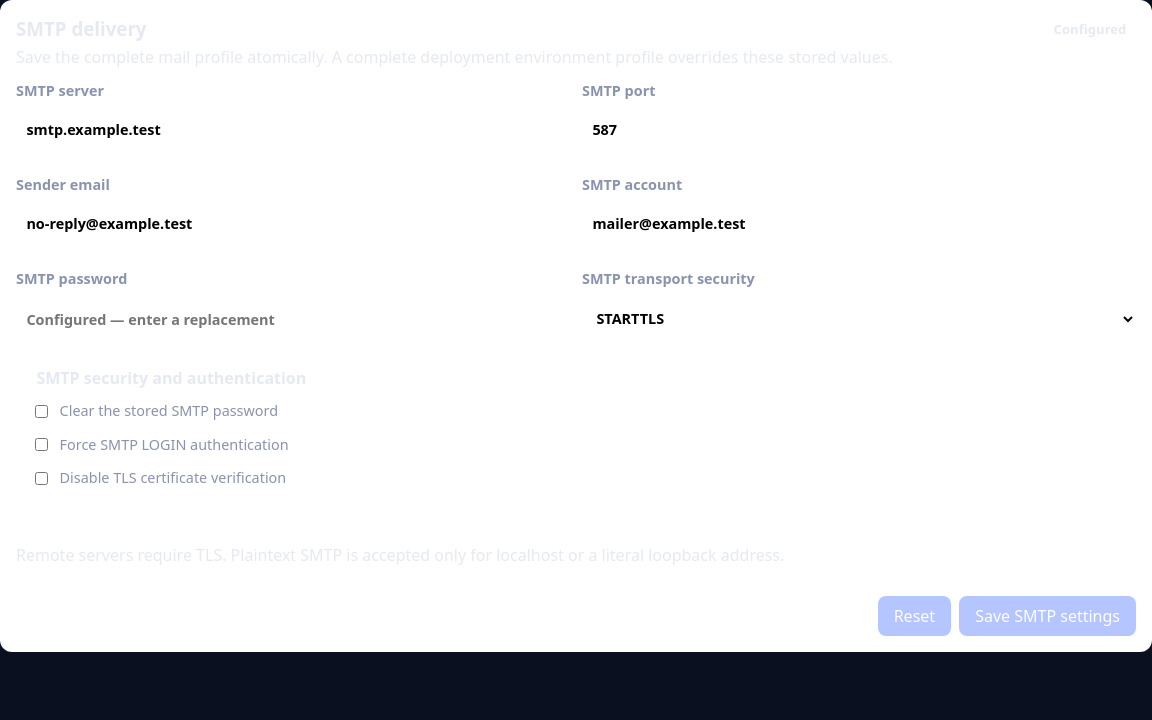
Test: SMTPSettingsPanel › blocks remote plaintext and incomplete credential changes locally
The image size is (1152, 720).
Select "Plaintext (loopback only)" in the dropdown labelled "SMTP transport security" at (859, 319), box x1=582 y1=299 x2=1136 y2=338
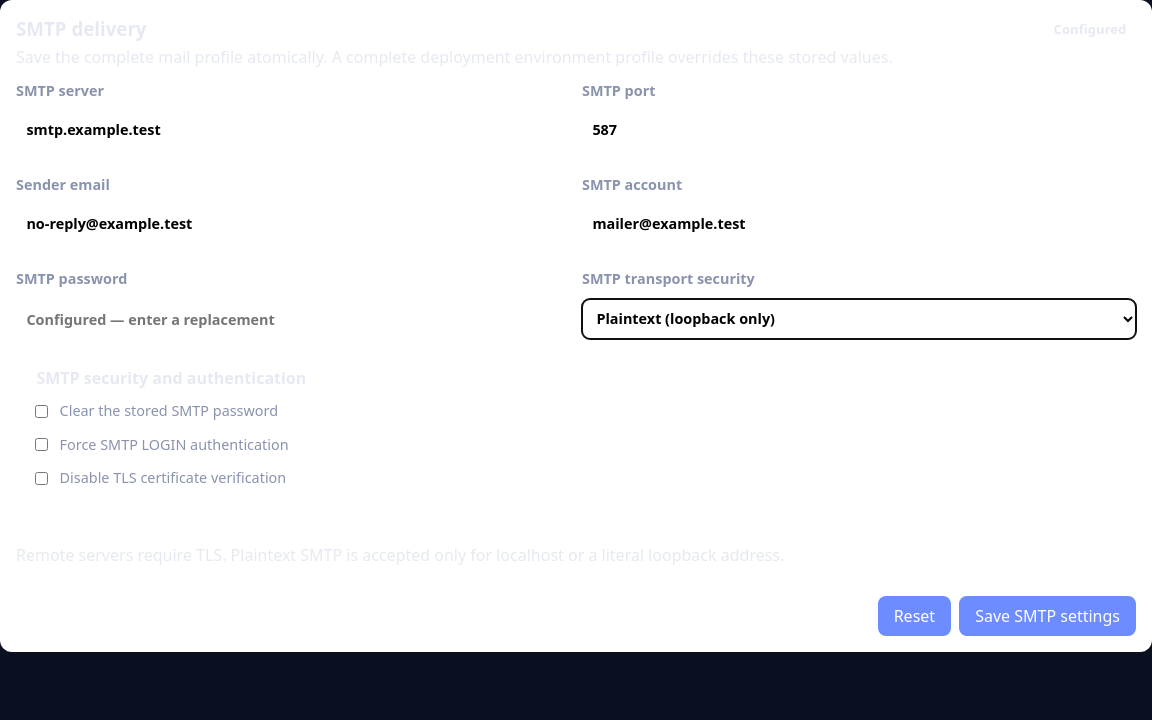
Replace the text in the field labelled "SMTP port" with "25" at (859, 130), box x1=582 y1=111 x2=1136 y2=148
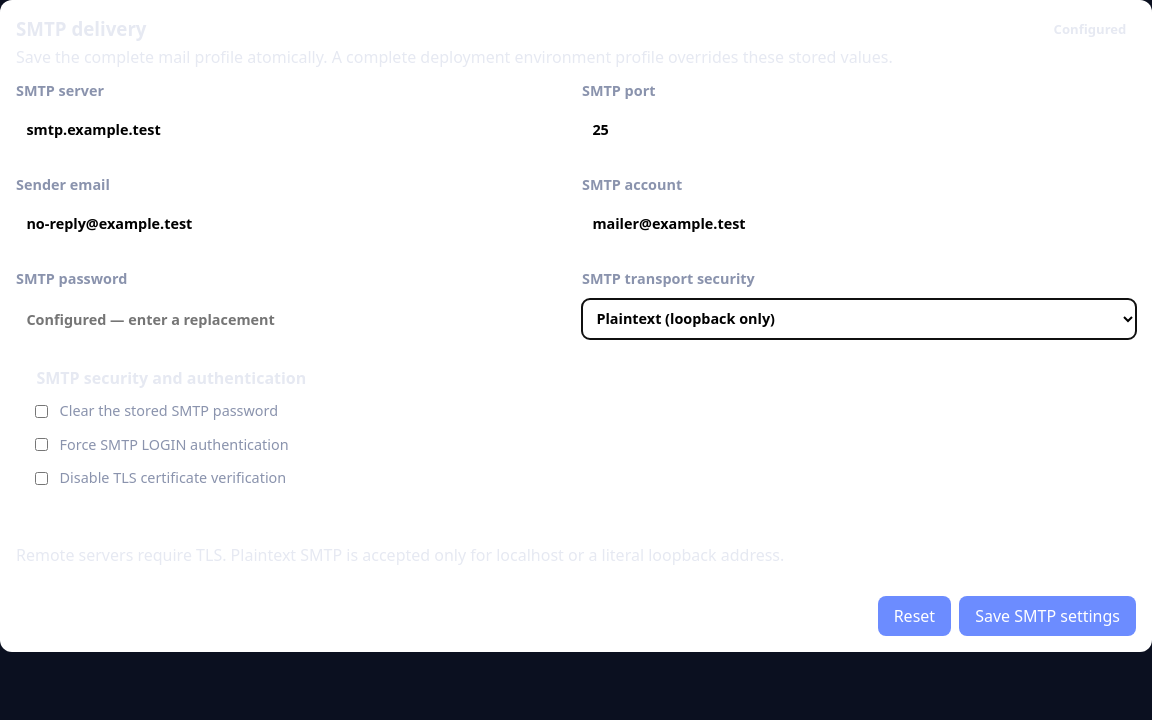
Click the button "Save SMTP settings" at (1048, 616), box x1=959 y1=596 x2=1136 y2=636
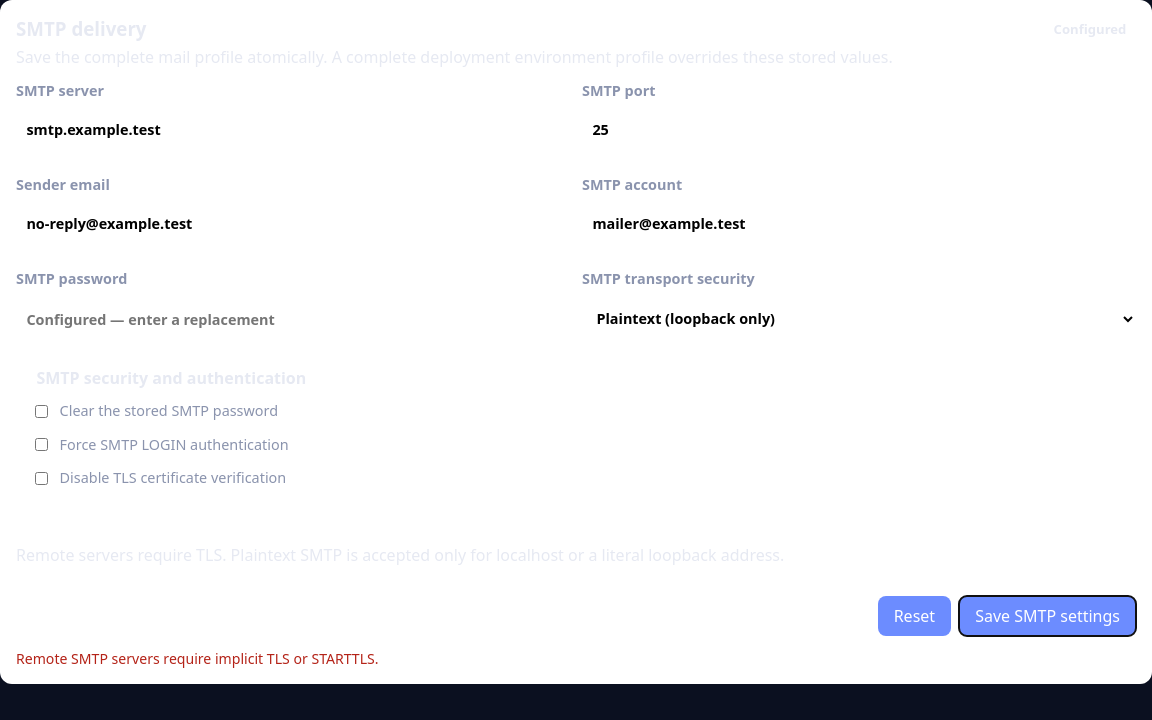
Check: the message reads "Remote SMTP servers require implicit TLS or STARTTLS.", box x1=16 y1=649 x2=378 y2=668
Select "STARTTLS" in the dropdown labelled "SMTP transport security" at (859, 319), box x1=582 y1=299 x2=1136 y2=338
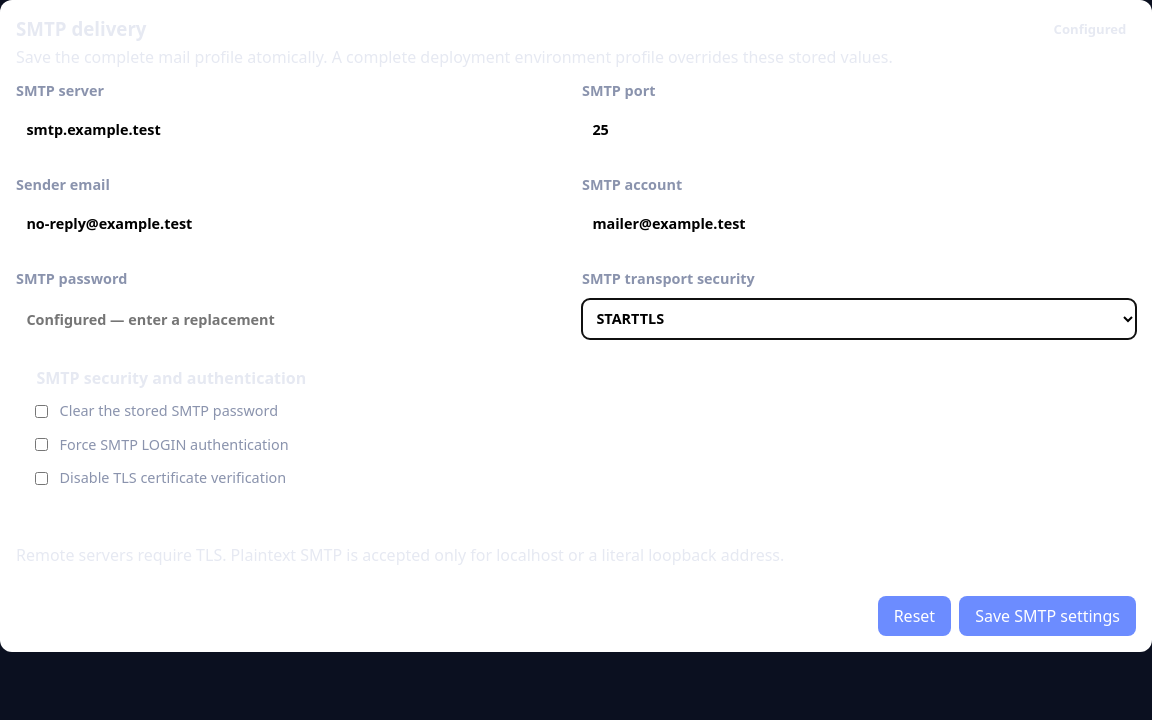
Clear the field labelled "SMTP account" at (859, 224), box x1=582 y1=205 x2=1136 y2=242
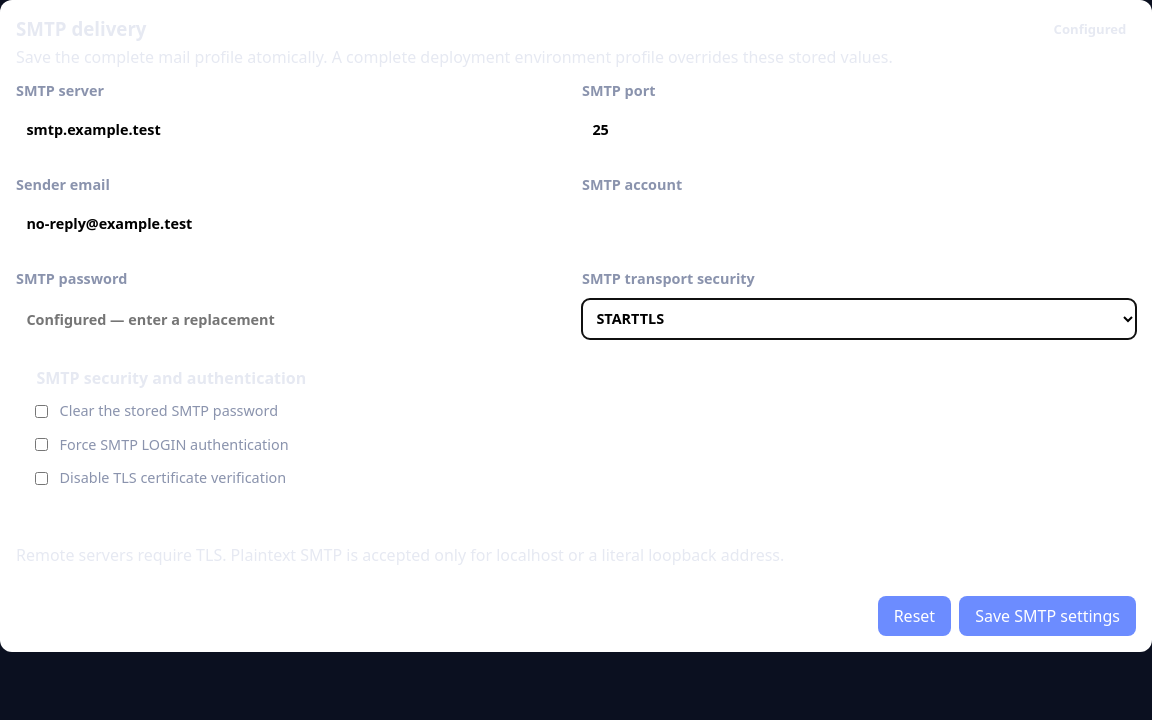
Click the button "Save SMTP settings" at (1048, 616), box x1=959 y1=596 x2=1136 y2=636
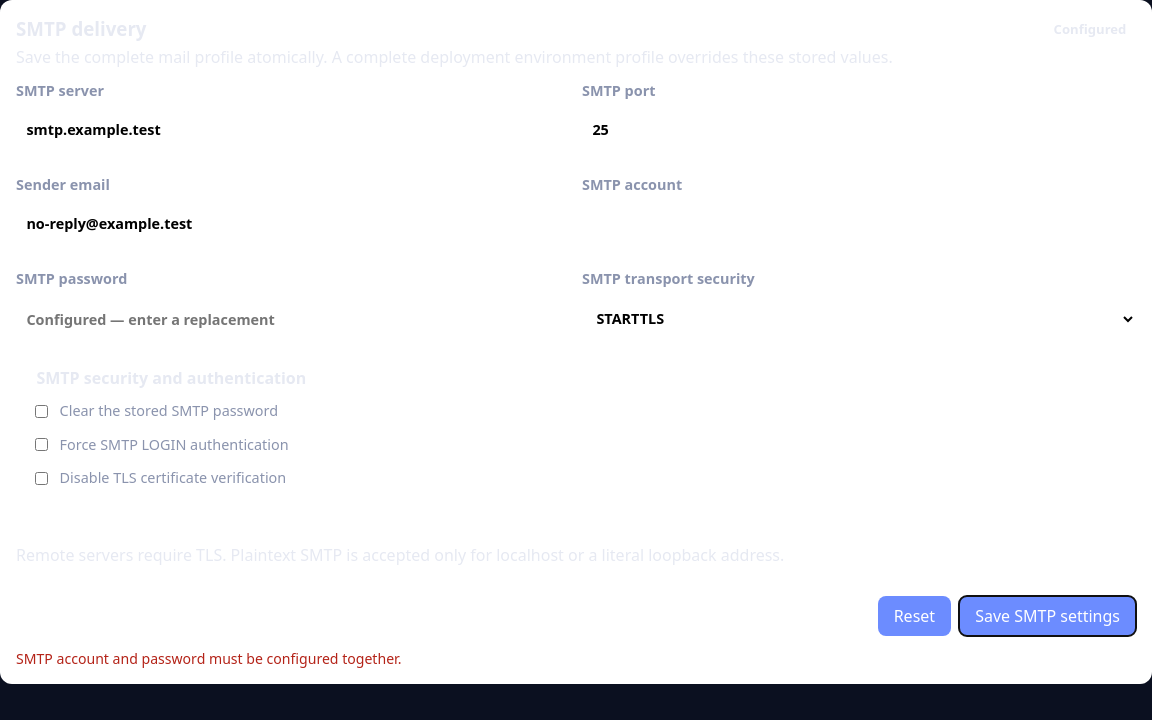
Check: the message reads "SMTP account and password must be configured together.", box x1=16 y1=649 x2=401 y2=668
